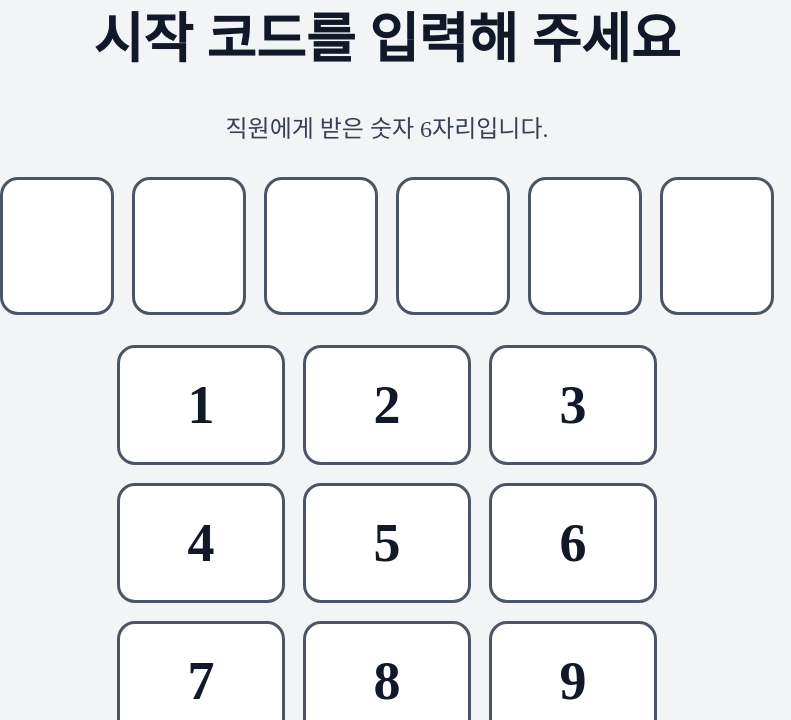
it: StartView 시작 코드 키패드 › 6자리가 차야 시작하기가 눌린다
The image size is (791, 720).
Click the button "1". click: (201, 405)
box: [117,345,285,465]
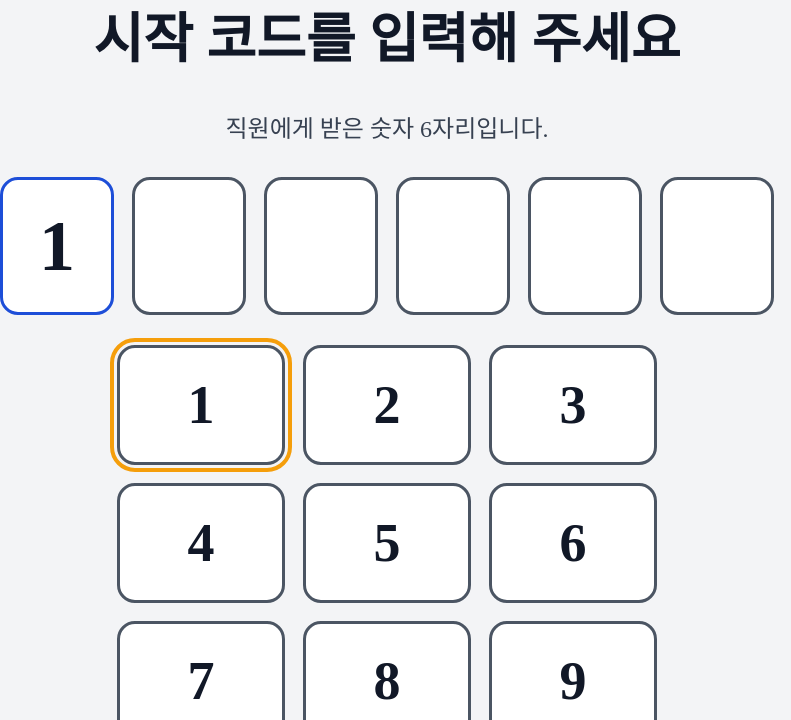
Click the button "2". click: (387, 405)
box: [303,345,471,465]
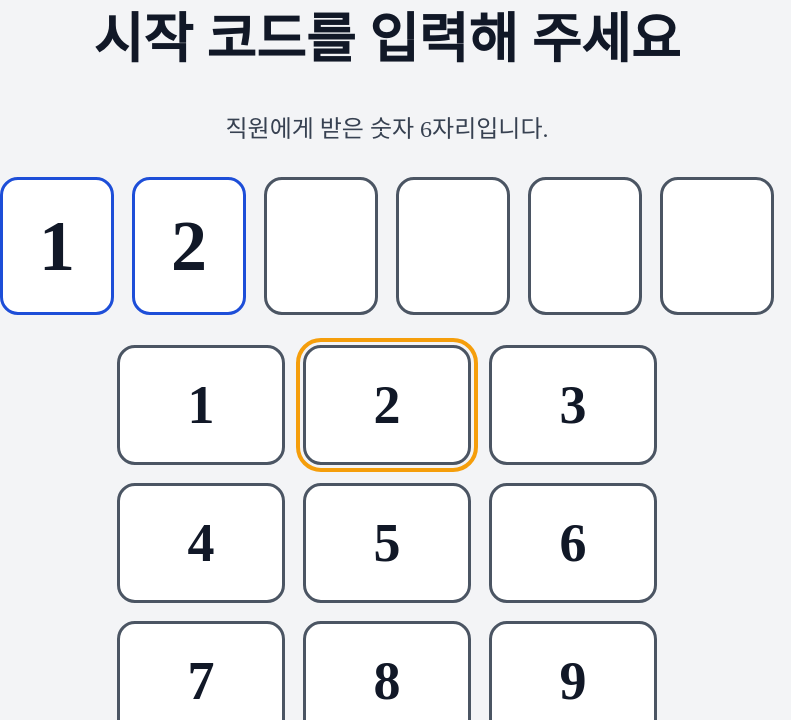
Click the button "3". click: (573, 405)
box: [489,345,657,465]
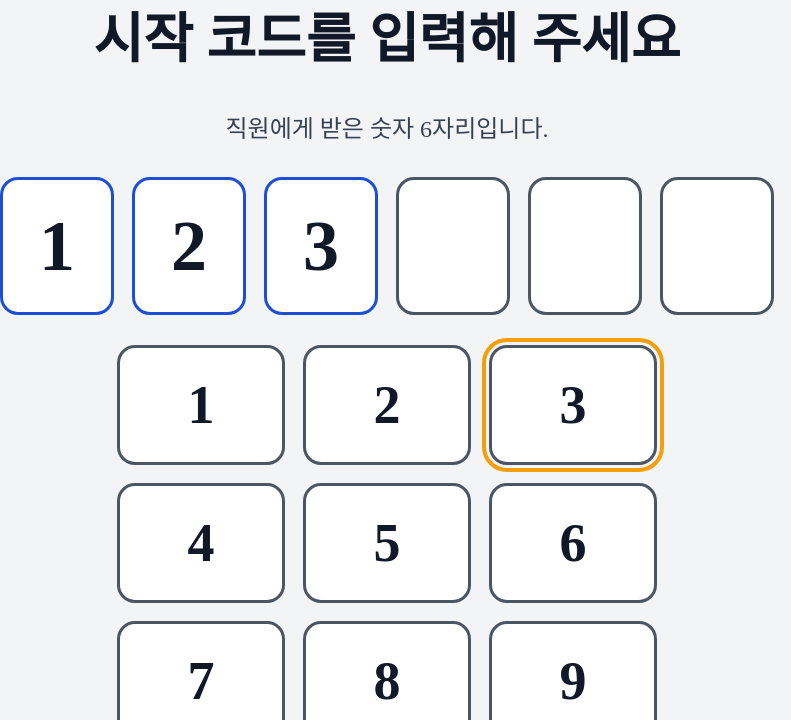
Click the button "4". click: (201, 543)
box: [117,483,285,603]
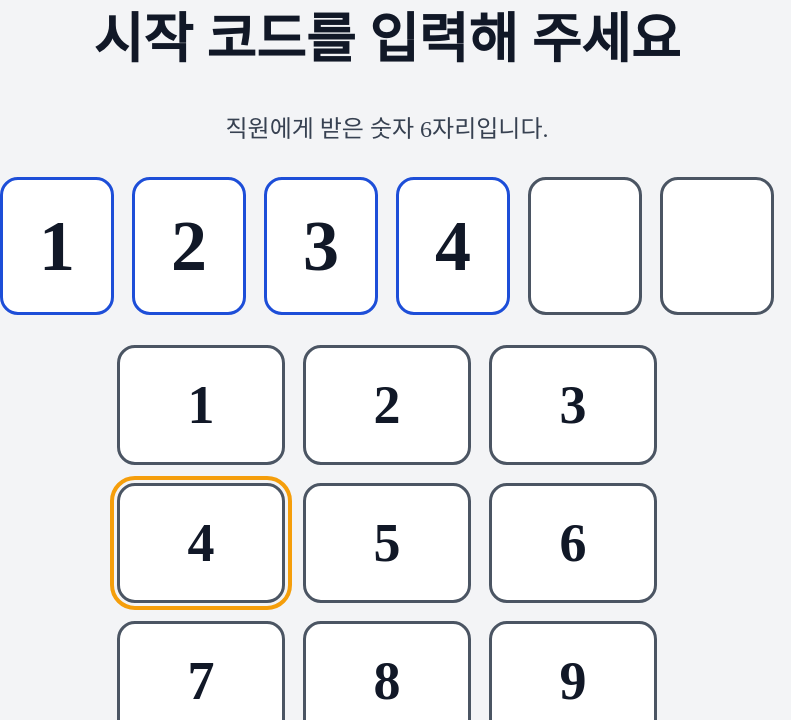
Click the button "5". click: (387, 543)
box: [303,483,471,603]
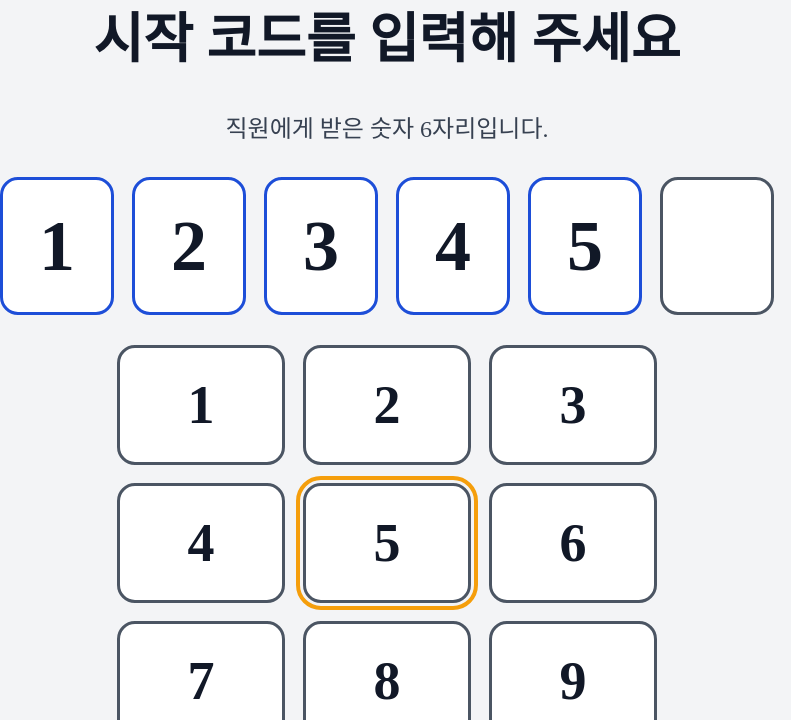
Click the button "6". click: (573, 543)
box: [489,483,657,603]
(page scrolled)
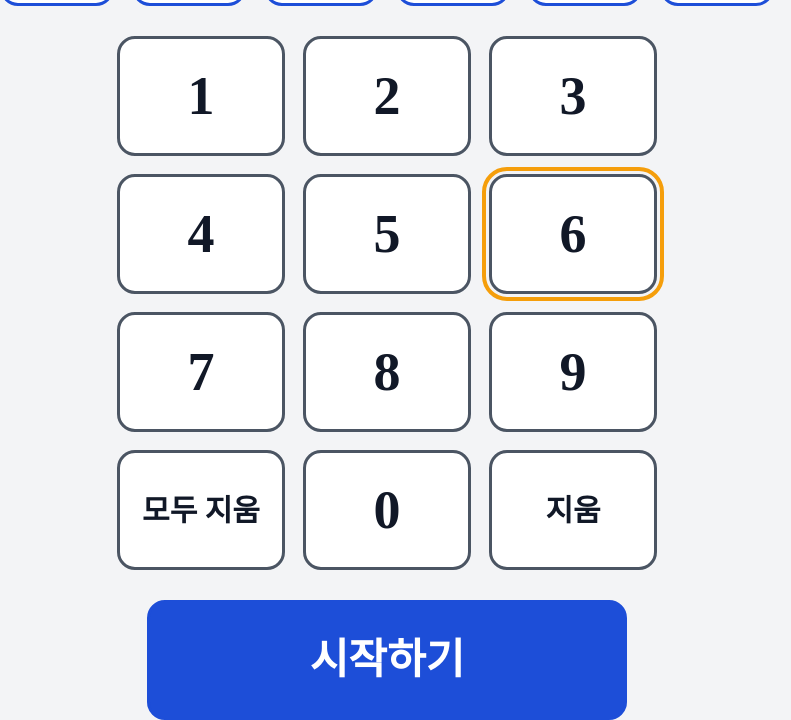
Result: the button "시작하기" is enabled at [147,600,627,719]
